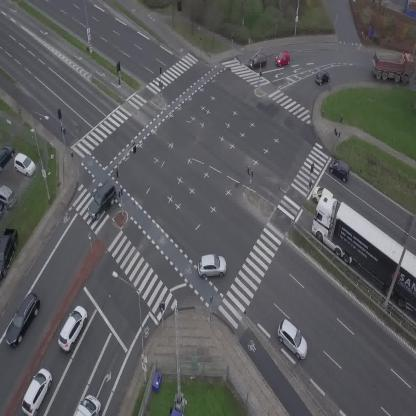car: (0, 290, 46, 350), (271, 317, 316, 362), (53, 304, 93, 354), (18, 366, 56, 416), (81, 180, 123, 222), (195, 251, 228, 280), (326, 155, 354, 182), (310, 182, 335, 203), (312, 68, 332, 87), (247, 53, 268, 70), (274, 50, 291, 66)
lorry: (370, 48, 415, 85), (73, 395, 101, 416)
